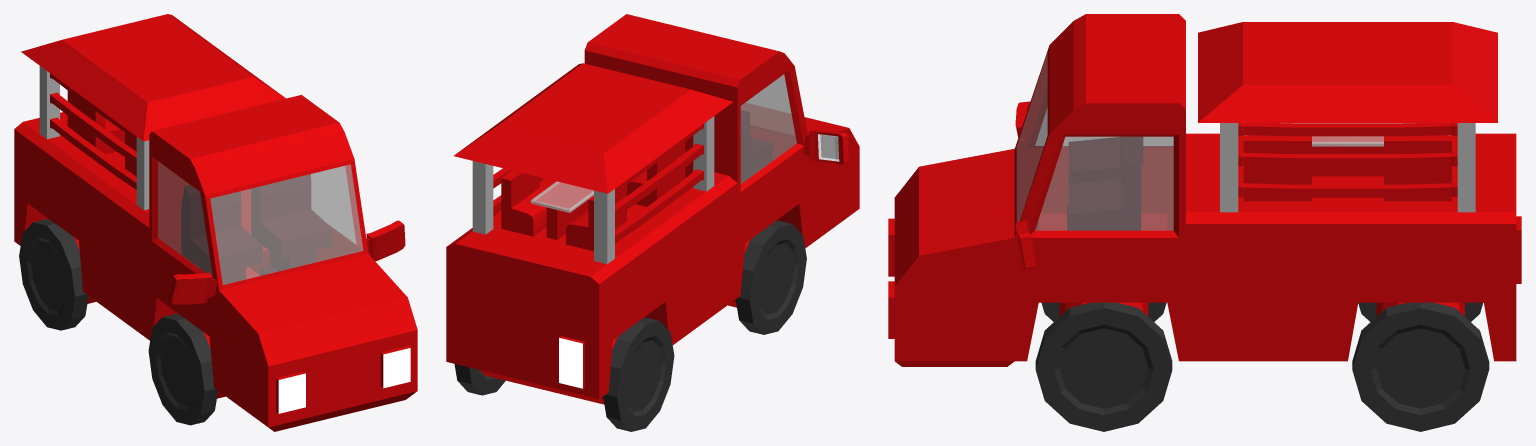
The model's file is cars14.glb.
The picture shows the model from 3 angles, left to right: view 1: azimuth 30°, elevation 25°; view 2: azimuth 150°, elevation 25°; view 3: azimuth 270°, elevation 25°; orthographic projection. The views are drawn at different scales.
Parts seen in each view (by area): view 1: Car14, Car14Tire1, Car14Tire2; view 2: Car14, Car14Tire2, Car14Tire1; view 3: Car14, Car14Tire1, Car14Tire2.
Part boxes in pixels (x1=…): Car14: x1=14, y1=14, x2=417, y2=431; Car14Tire1: x1=148, y1=313, x2=225, y2=425; Car14Tire2: x1=19, y1=219, x2=96, y2=330; Car14: x1=446, y1=14, x2=859, y2=398; Car14Tire2: x1=454, y1=317, x2=674, y2=431; Car14Tire1: x1=728, y1=220, x2=806, y2=334; Car14: x1=888, y1=14, x2=1521, y2=366; Car14Tire1: x1=1035, y1=302, x2=1172, y2=431; Car14Tire2: x1=1352, y1=302, x2=1489, y2=431.
Size of the model in its own units: 1.58 by 1.74 by 3.02.
